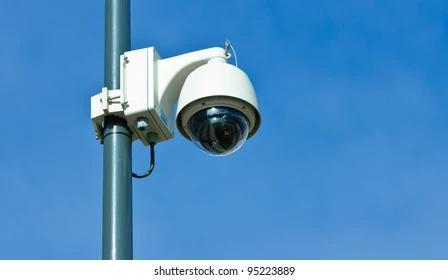360-Cam: (162, 47, 264, 164)
